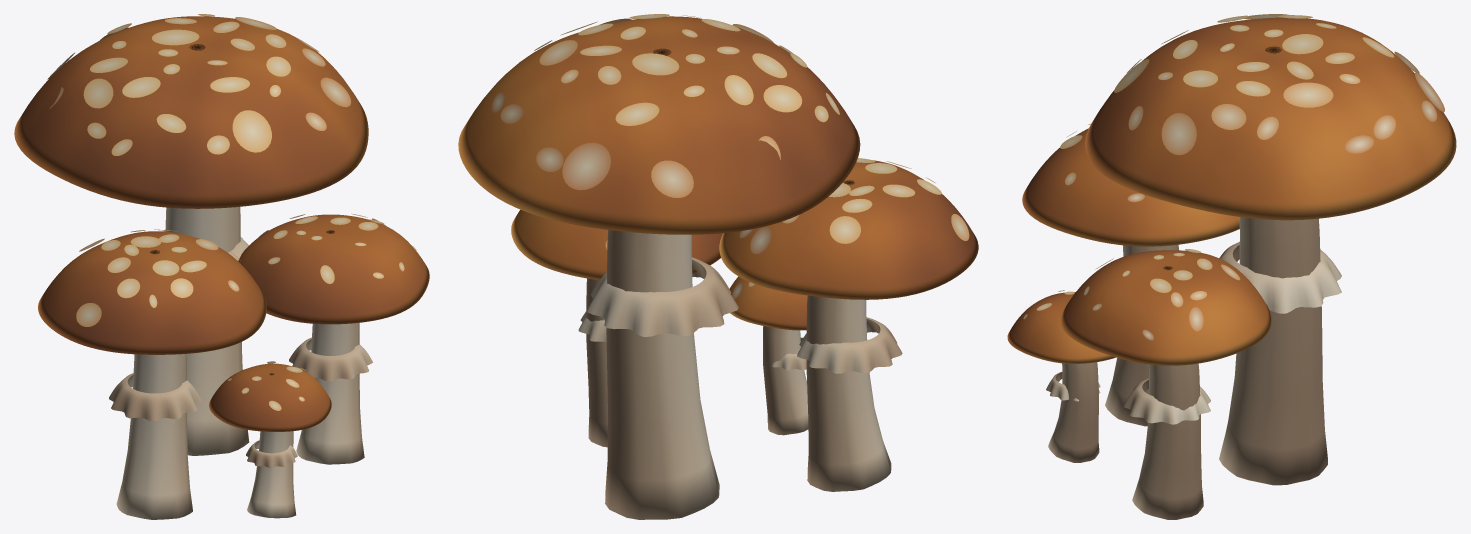
Rendered from mushrooms.glb.
The picture shows the model from 3 angles, left to right: view 1: azimuth 30°, elevation 25°; view 2: azimuth 150°, elevation 25°; view 3: azimuth 270°, elevation 25°; orthographic projection. The views are drawn at different scales.
Visible parts, largest first — view 1: mushrooms; view 2: mushrooms; view 3: mushrooms.
Part boxes in pixels (x1,y1,x2,y2): mushrooms: (14,14,429,519); mushrooms: (458,14,978,519); mushrooms: (1007,14,1456,519).
Bounding box in the file's own units: 3.18 × 3.22 × 3.15.
